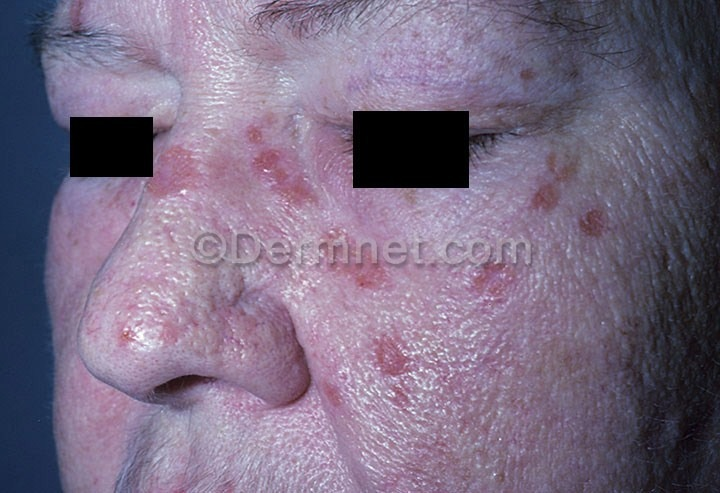Melasma: (527, 38, 639, 289), (187, 32, 341, 175), (432, 322, 540, 493), (115, 283, 302, 373), (348, 326, 429, 421), (455, 260, 533, 305), (323, 259, 402, 295)
